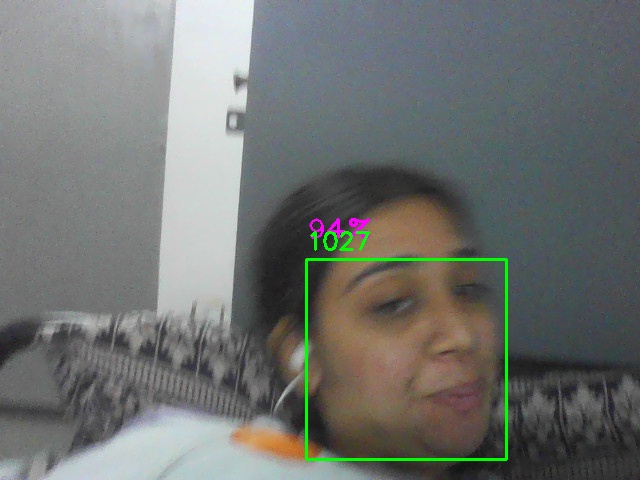real: (306, 259, 507, 460)
